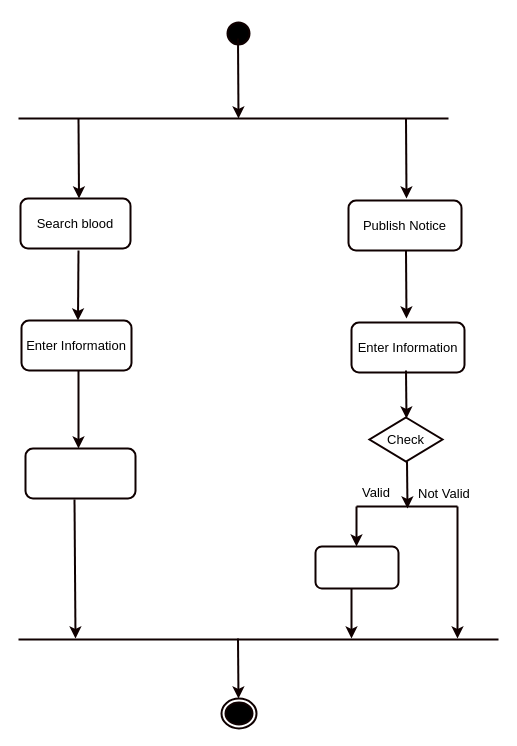
This 517x746 diagram has some shape labels left out. The shapes that lost their labels are listed below. From the top down, each one's box as (x1, y1, x2, y2) in pixels, then its label:
(24, 447, 136, 499): View information
(314, 545, 399, 589): View Notice
